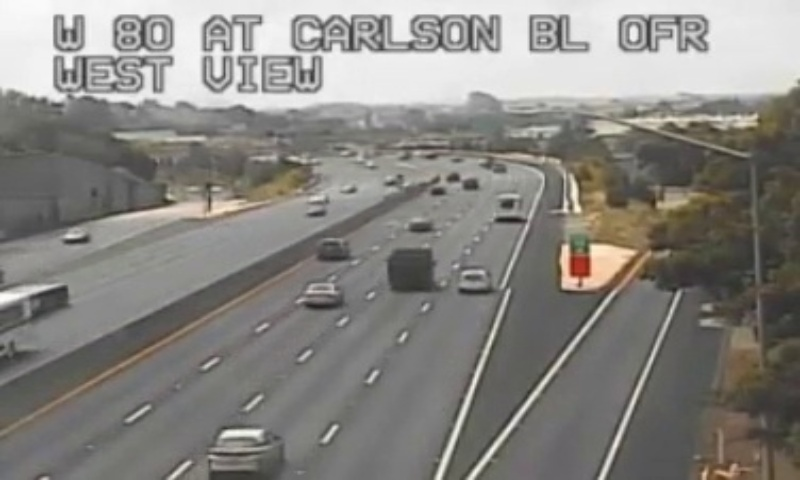car: (206, 427, 287, 480), (302, 283, 342, 306), (457, 267, 491, 292), (317, 238, 348, 261)
small-truck: (387, 249, 431, 290)
